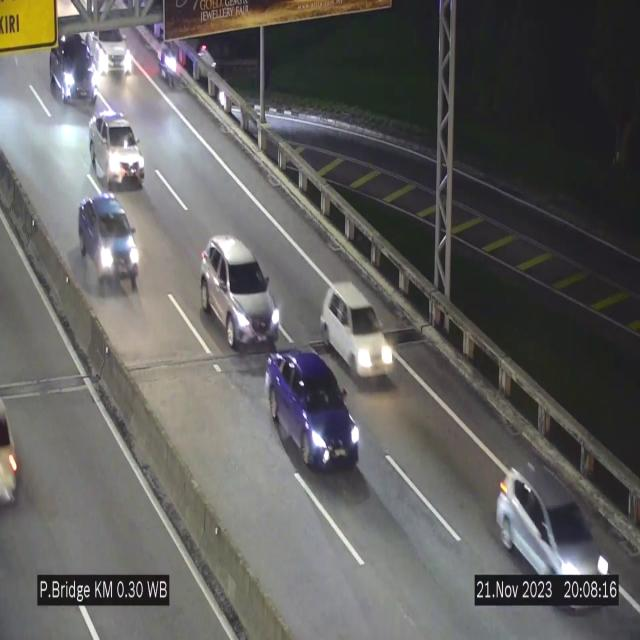Car: (496, 462, 614, 576), (266, 348, 360, 468), (200, 236, 280, 350), (322, 281, 400, 387), (77, 192, 139, 299), (50, 26, 104, 119), (90, 110, 144, 187), (88, 12, 138, 78)
Motorcycle: (157, 38, 177, 102)
